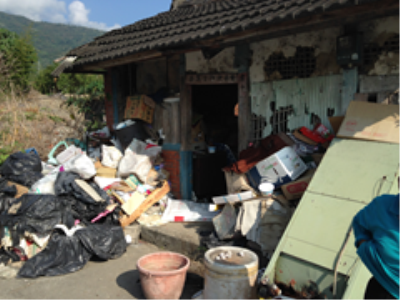bowl: (258, 181, 275, 197)
box: (332, 97, 400, 144), (256, 146, 307, 183), (124, 93, 156, 124)
bucket: (199, 244, 261, 299), (135, 250, 190, 300)
plastic_bag: (1, 180, 123, 274)
